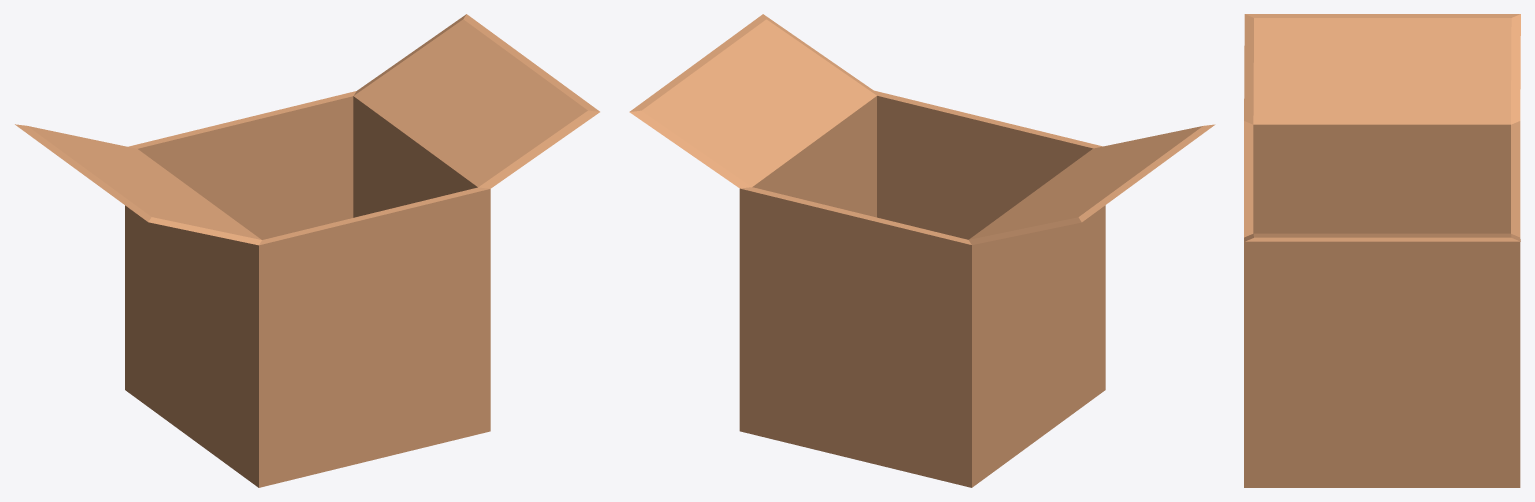
Rendered from Cardboard box.fbx.
3 views of the same model, side by side, from view 1: azimuth 30°, elevation 25°; view 2: azimuth 150°, elevation 25°; view 3: azimuth 270°, elevation 25° (orthographic). The views are drawn at different scales.
Parts seen in each view (by area): view 1: Cardboard box; view 2: Cardboard box; view 3: Cardboard box.
Boxes of the visible parts, x1,y1,x2,y2 form: Cardboard box: (15, 14, 599, 487); Cardboard box: (629, 14, 1215, 487); Cardboard box: (1244, 14, 1520, 487).
Size of the model in its own units: 111 by 68.73 by 57.17.
